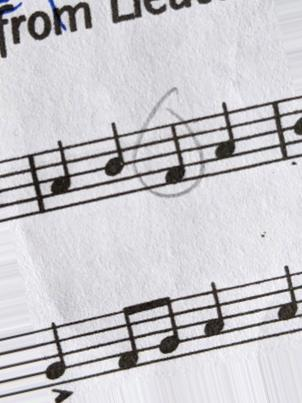A: (206, 99, 244, 175), (44, 140, 78, 212), (199, 284, 230, 353), (274, 263, 302, 336)
B: (98, 119, 132, 200)
F: (165, 120, 189, 194)
G: (40, 320, 73, 387)
